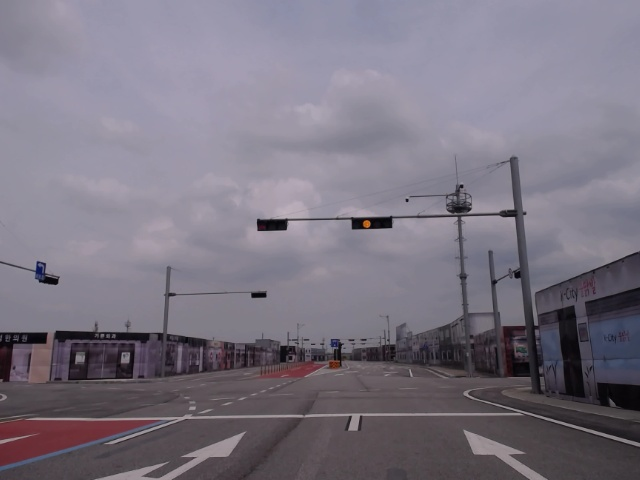orange_4: (350, 214, 394, 232)
